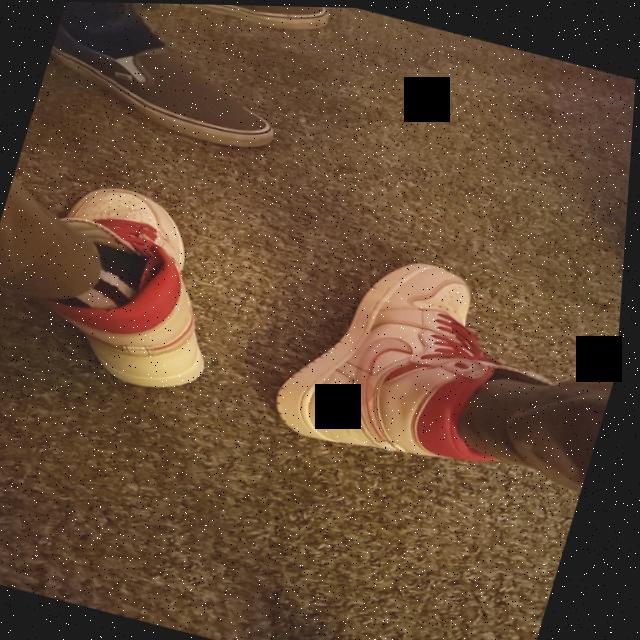shoes: (254, 223, 570, 497), (9, 165, 268, 416), (34, 3, 306, 163), (140, 2, 334, 41)
